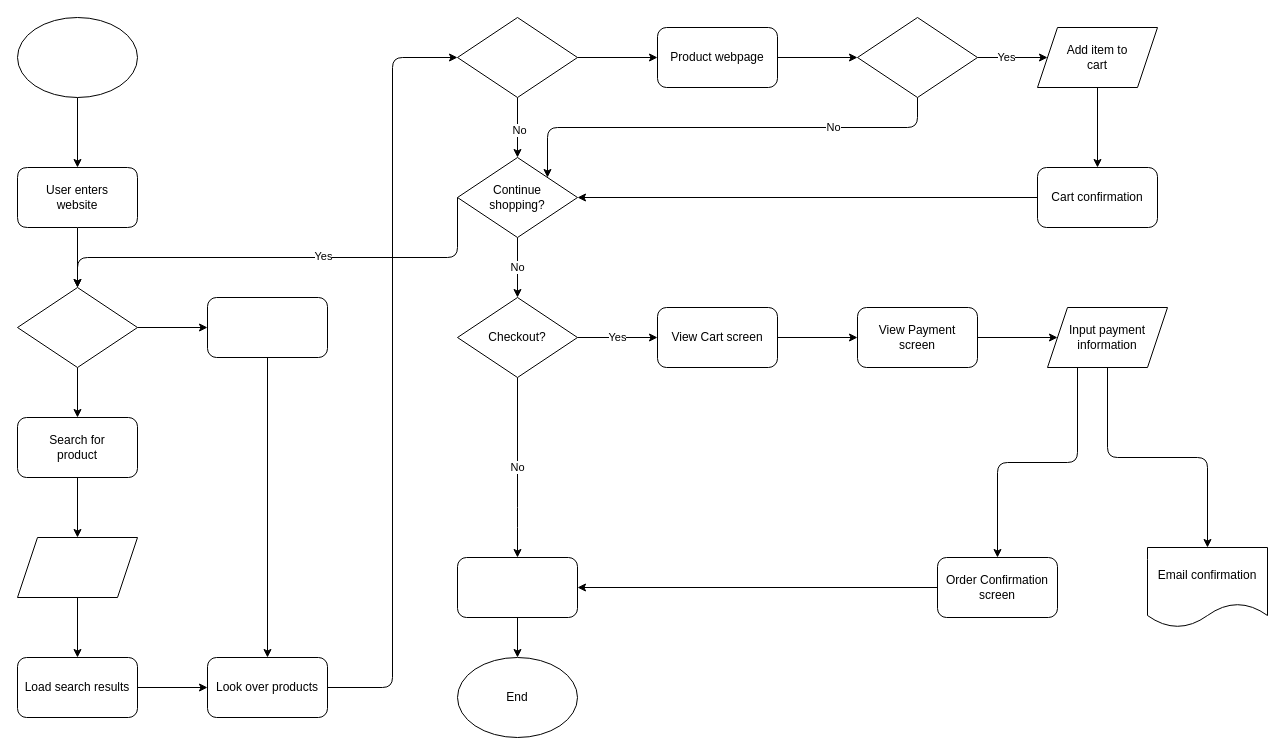
Some shapes in this 1285 by 755 pixel diagram are drawn without their labels. The box of each missing label's shape, as (x1, y1, x2, y2) in pixels:
Add to cart?: (856, 16, 978, 98)
Explore products: (206, 296, 328, 358)
Leave website: (456, 556, 578, 618)
Search input: (16, 536, 138, 598)
Start: (16, 16, 138, 98)
User action: (16, 286, 138, 368)
View item?: (456, 16, 578, 98)
